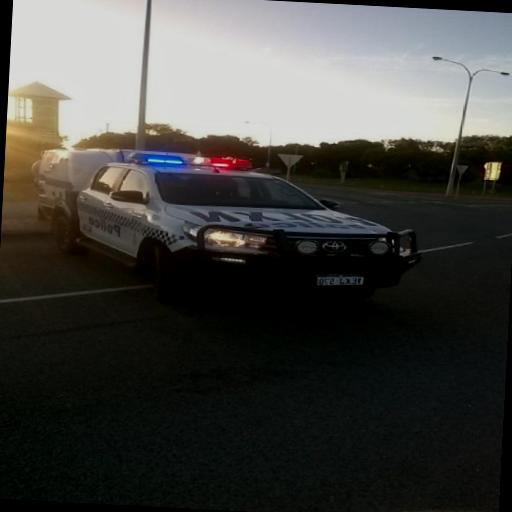Ambulance: (19, 143, 423, 322)
